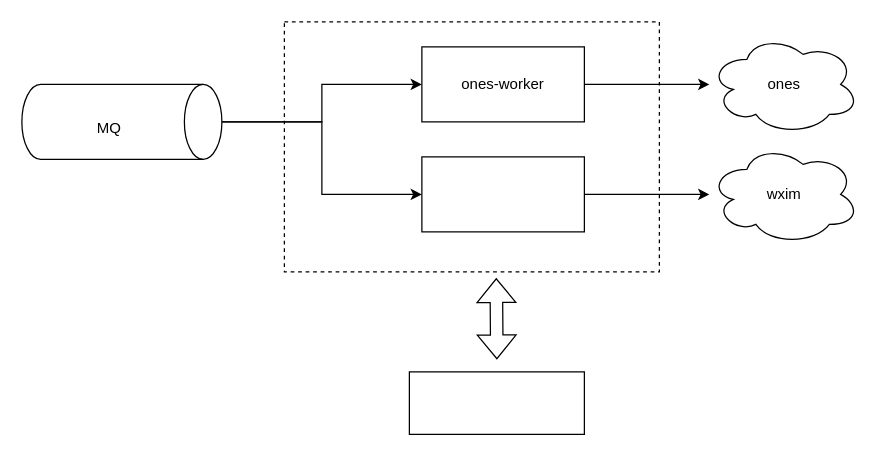
This 881x456 diagram has some shape labels left out. The centre of each missing label's shape, as x and y in pixels:
"meta cache" belongs at pixel 496 402.
"wxim-worker" belongs at pixel 502 194.
